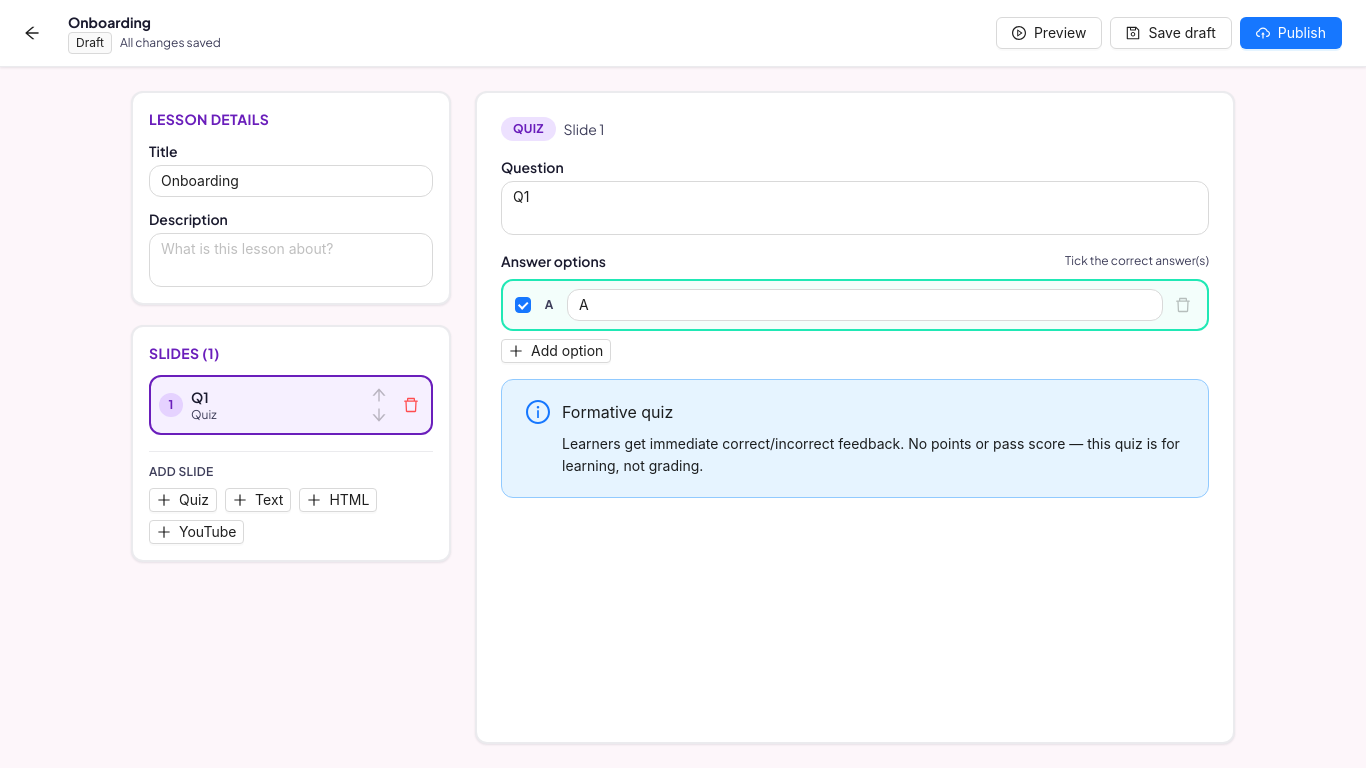
Test: LessonEditor.vue › adding a Text slide appends it and selects it
The width and height of the screenshot is (1366, 768).
Click the button "Text": [258, 500] box [225,488,291,512]
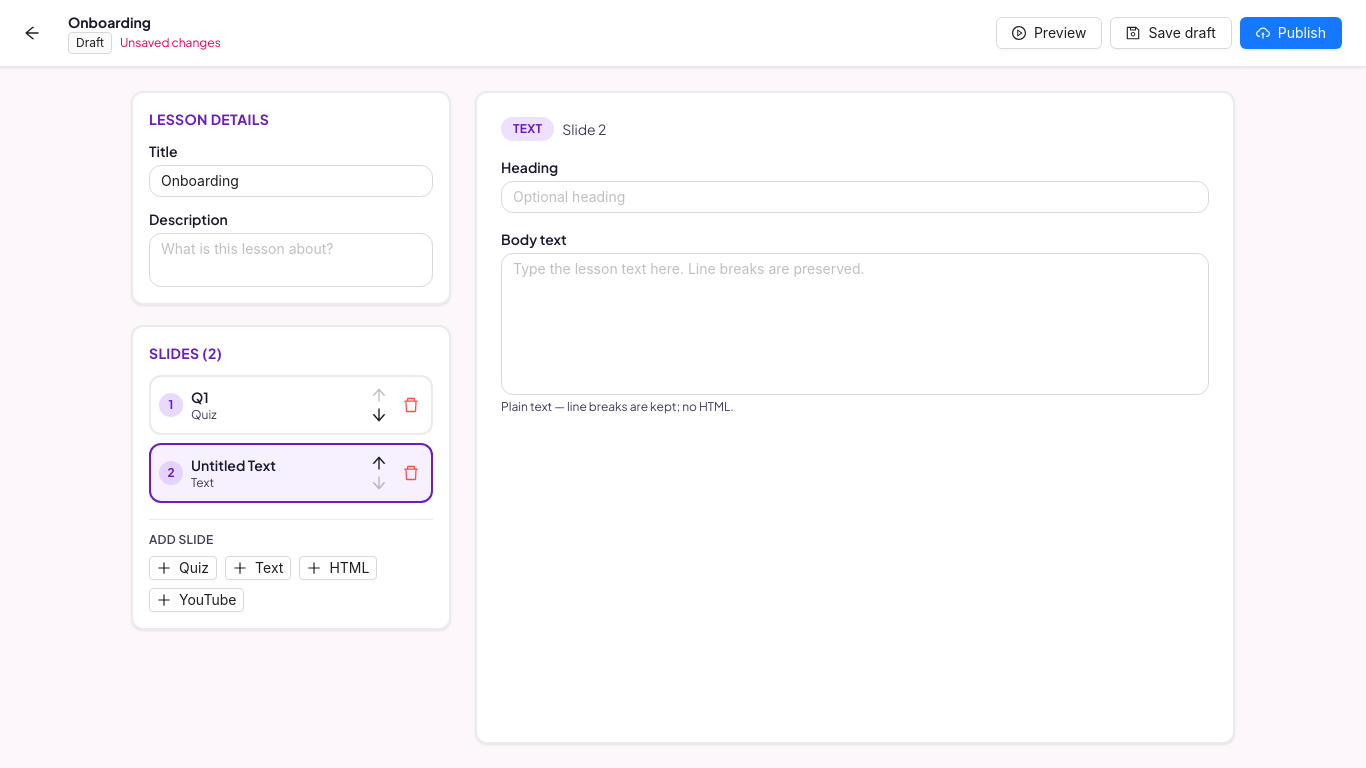
expect the text "Slides (2)" is shown: met, box [149,343,222,363]
